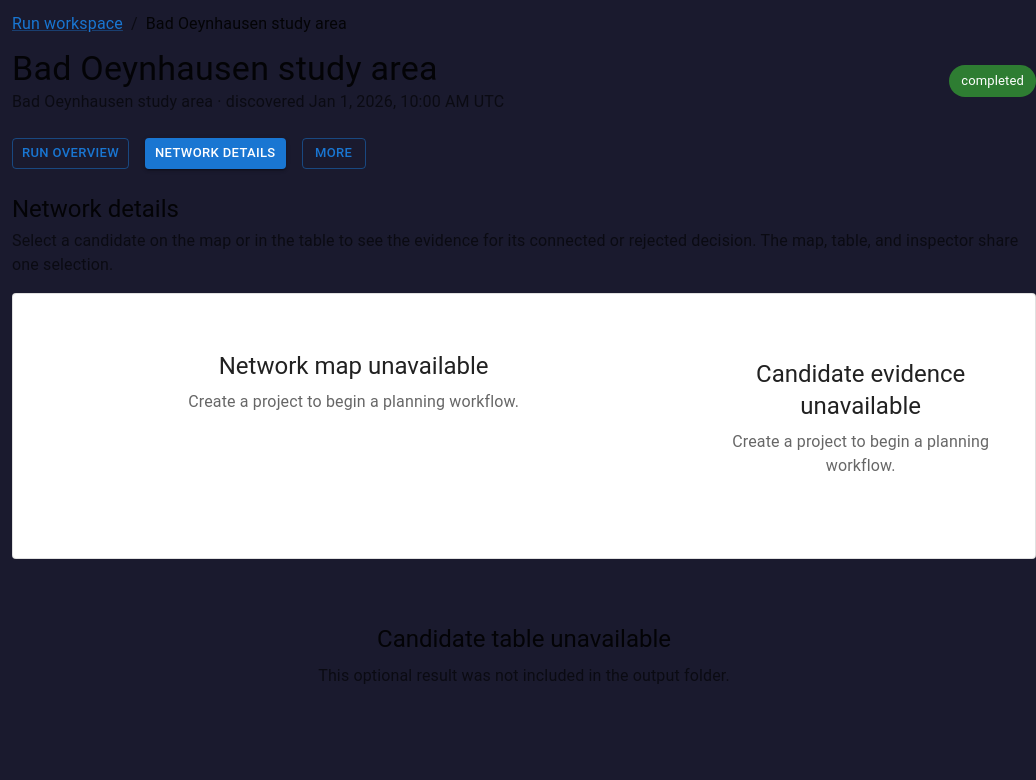
constrained result routes › offers only the destinations that exist in the constrained route graph
Expected: the heading "Bad Oeynhausen study area" is shown, [12,48,504,90]
Note: Inputs and downloads is a secondary option, not a third result mode.
Click the button with aria-label "More result options" at [334, 153], box [302,138,366,169]
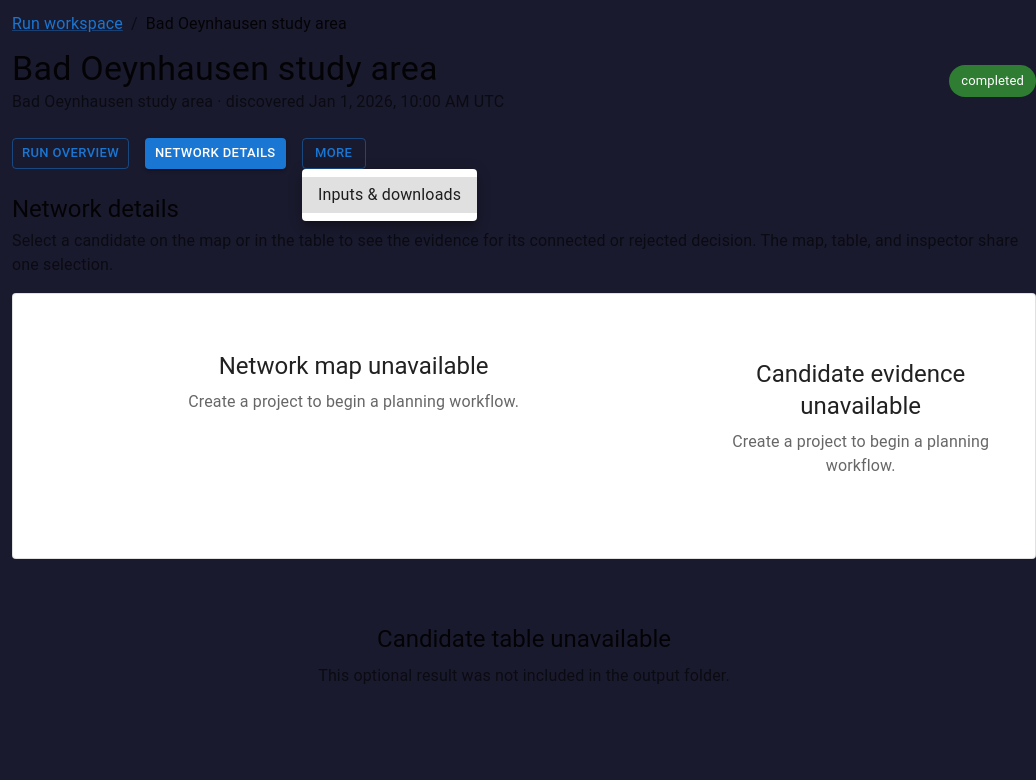
Expected: the menu is shown, [302,169,477,221]
